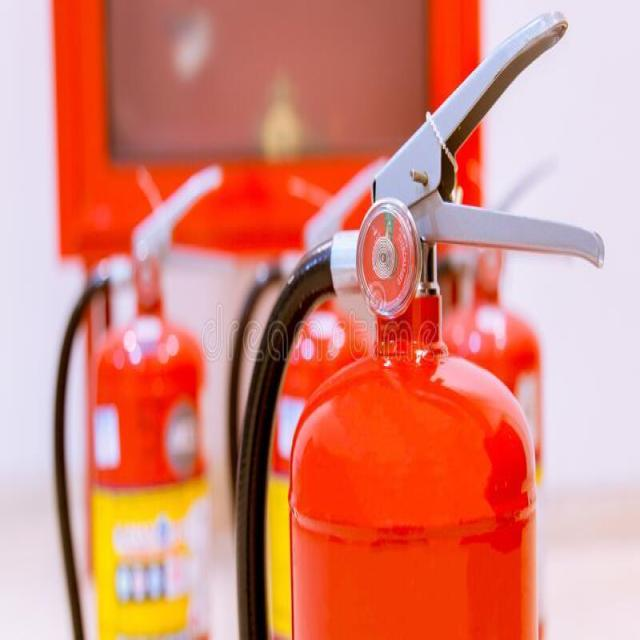fire_extinguisher: (229, 0, 610, 639), (46, 156, 219, 639)
